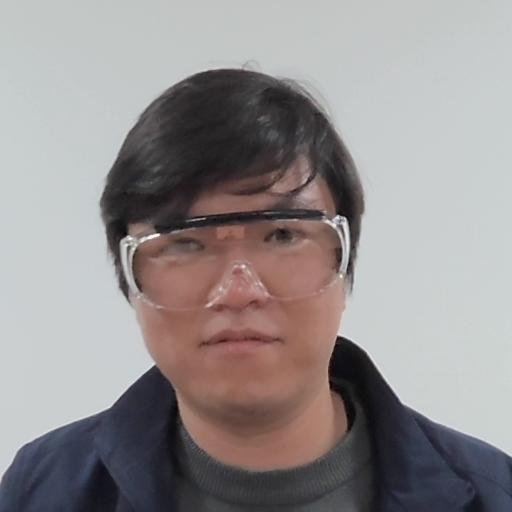glasses: (83, 68, 377, 388)
